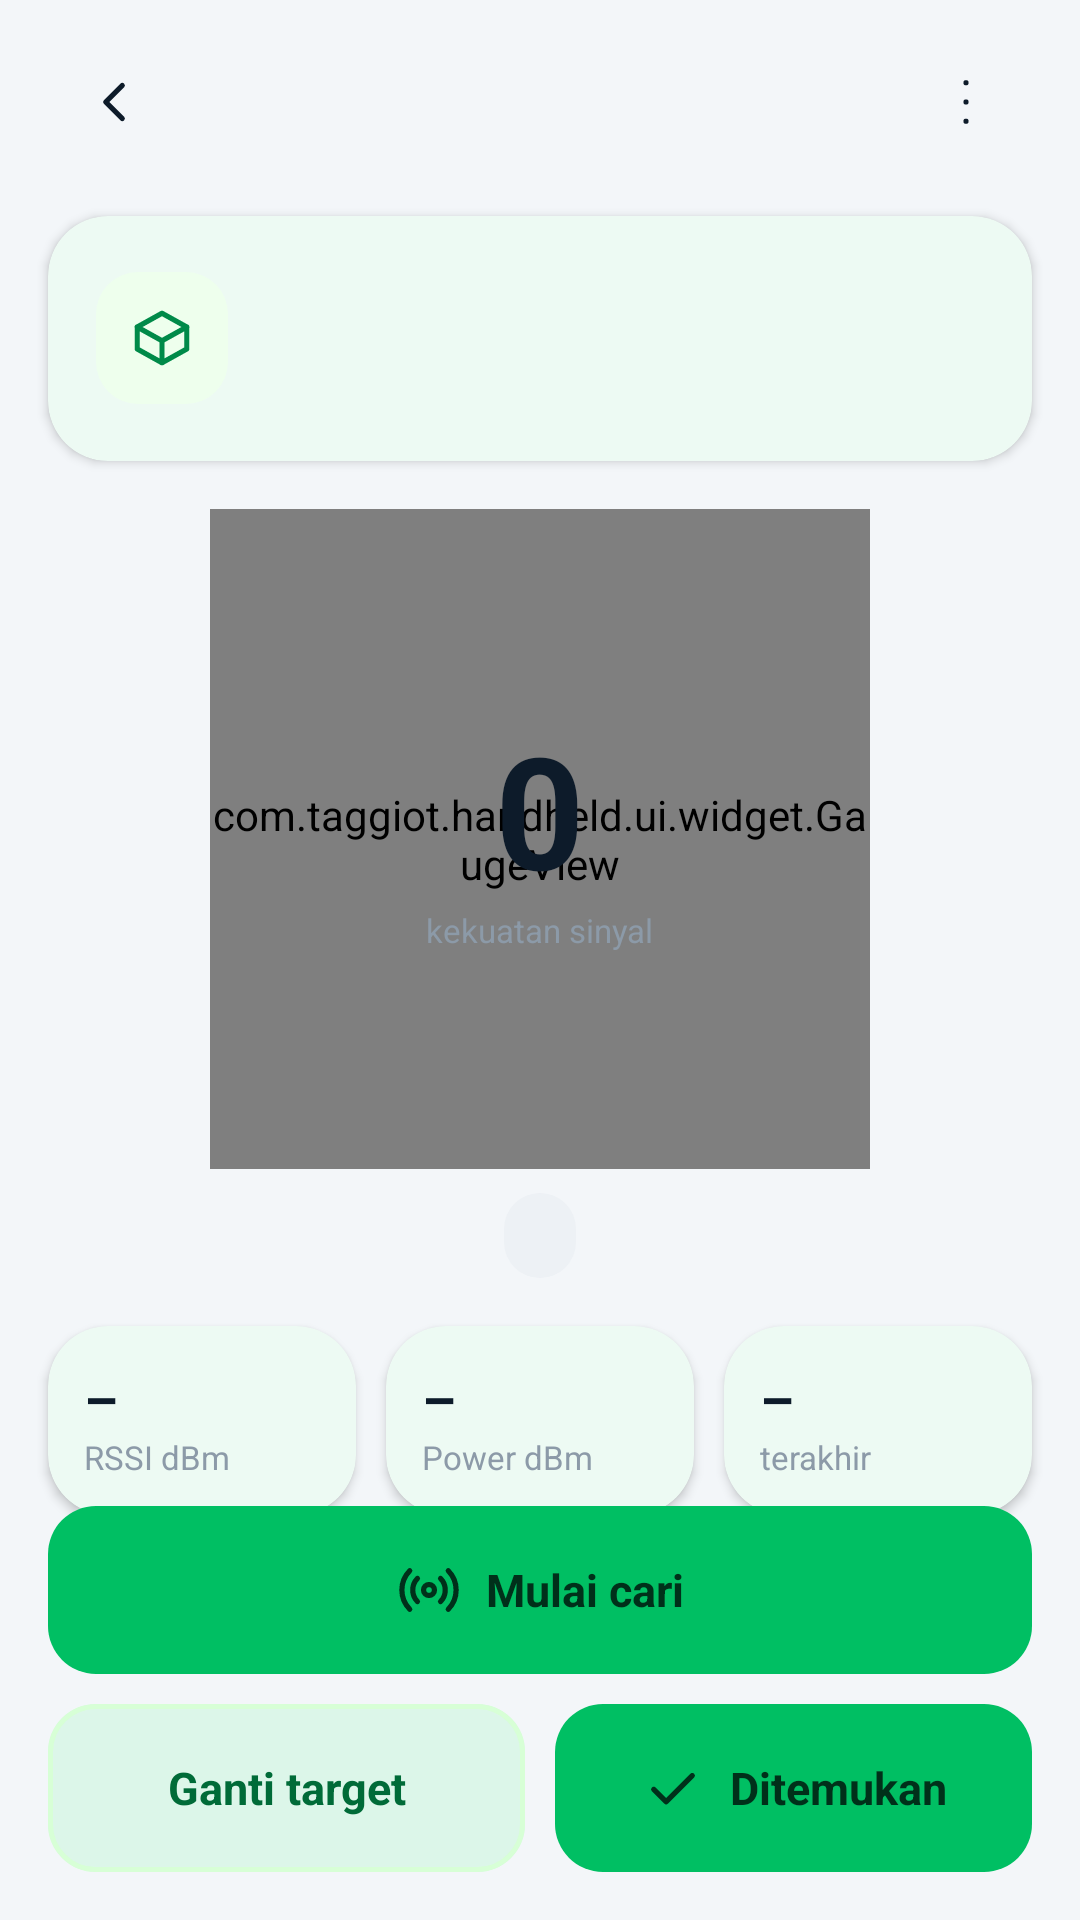

Named icons in this screenshot (1080px×1920px) and their bounding boxes, Rect(x1, y1, x2, y2):
box: Rect(134, 310, 190, 366)
Kembali: Rect(103, 82, 125, 122)
